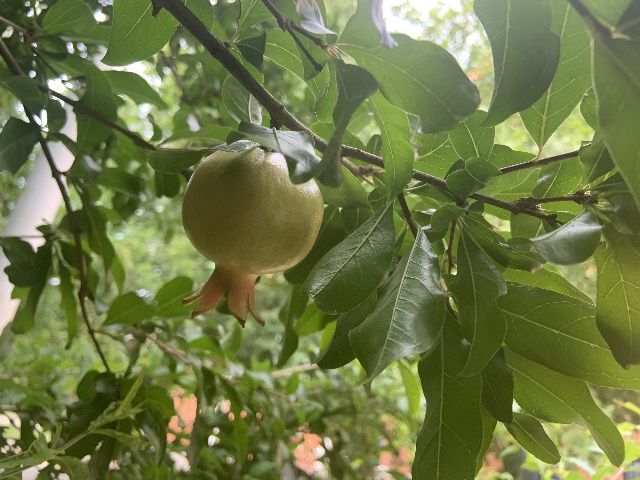mid-growth: (180, 148, 323, 328)
